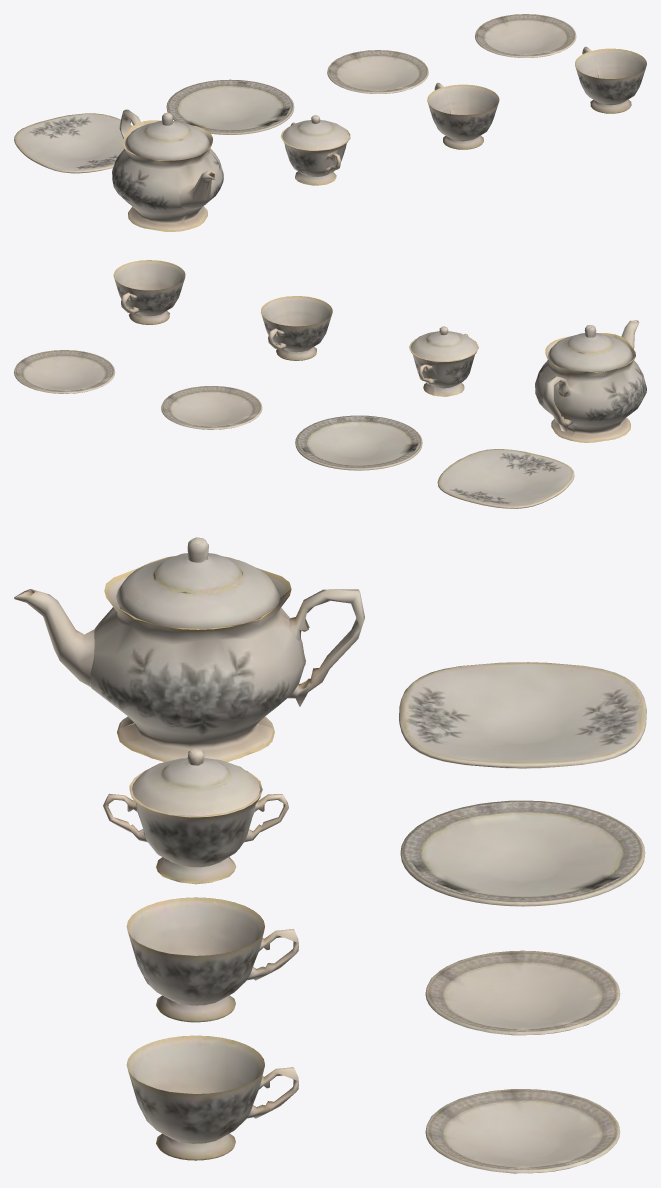
Rendered from tea_set_01.glb.
3 renders of one model, top to bottom at view 1: azimuth 30°, elevation 25°; view 2: azimuth 150°, elevation 25°; view 3: azimuth 270°, elevation 25°, orthographic. The views are drawn at different scales.
Parts seen in each view (by area): view 1: tea_set_01_teapot_01, tea_set_01_plate_large_circular_03, tea_set_01_plate_large_square_01, tea_set_01_cup_small_02, tea_set_01_cup_small_01, tea_set_01_saucer_circular_04, tea_set_01_saucer_circular_03, tea_set_01_teapot_01_lid, tea_set_01_sugar_cup_01, tea_set_01_sugar_cup_01_lid; view 2: tea_set_01_teapot_01, tea_set_01_plate_large_square_01, tea_set_01_plate_large_circular_03, tea_set_01_cup_small_02, tea_set_01_cup_small_01, tea_set_01_saucer_circular_04, tea_set_01_saucer_circular_03, tea_set_01_teapot_01_lid, tea_set_01_sugar_cup_01, tea_set_01_sugar_cup_01_lid; view 3: tea_set_01_teapot_01, tea_set_01_plate_large_square_01, tea_set_01_plate_large_circular_03, tea_set_01_cup_small_01, tea_set_01_cup_small_02, tea_set_01_saucer_circular_03, tea_set_01_saucer_circular_04, tea_set_01_teapot_01_lid, tea_set_01_sugar_cup_01, tea_set_01_sugar_cup_01_lid.
Part boxes in pixels (x1,y1,x2,y2): tea_set_01_teapot_01: [112, 109, 223, 231]; tea_set_01_plate_large_circular_03: [166, 79, 294, 134]; tea_set_01_plate_large_square_01: [14, 113, 132, 173]; tea_set_01_cup_small_02: [575, 46, 646, 113]; tea_set_01_cup_small_01: [427, 83, 499, 149]; tea_set_01_saucer_circular_04: [327, 50, 428, 93]; tea_set_01_saucer_circular_03: [475, 14, 576, 57]; tea_set_01_teapot_01_lid: [124, 112, 209, 160]; tea_set_01_sugar_cup_01: [280, 122, 350, 185]; tea_set_01_sugar_cup_01_lid: [282, 115, 348, 149]; tea_set_01_teapot_01: [535, 320, 646, 442]; tea_set_01_plate_large_square_01: [437, 449, 574, 508]; tea_set_01_plate_large_circular_03: [295, 415, 422, 470]; tea_set_01_cup_small_02: [113, 260, 185, 324]; tea_set_01_cup_small_01: [261, 296, 332, 360]; tea_set_01_saucer_circular_04: [161, 386, 262, 429]; tea_set_01_saucer_circular_03: [14, 350, 115, 393]; tea_set_01_teapot_01_lid: [548, 325, 632, 371]; tea_set_01_sugar_cup_01: [409, 334, 478, 396]; tea_set_01_sugar_cup_01_lid: [410, 326, 476, 361]; tea_set_01_teapot_01: [14, 556, 364, 762]; tea_set_01_plate_large_square_01: [399, 662, 646, 768]; tea_set_01_plate_large_circular_03: [400, 800, 645, 906]; tea_set_01_cup_small_01: [126, 897, 298, 1022]; tea_set_01_cup_small_02: [126, 1035, 298, 1160]; tea_set_01_saucer_circular_03: [425, 1089, 620, 1173]; tea_set_01_saucer_circular_04: [425, 950, 620, 1035]; tea_set_01_teapot_01_lid: [116, 537, 280, 628]; tea_set_01_sugar_cup_01: [103, 770, 288, 884]; tea_set_01_sugar_cup_01_lid: [132, 748, 260, 815].
Bounding box in the file's own units: 0.9184 × 0.1651 × 0.484.
1 material, 1 textured.
